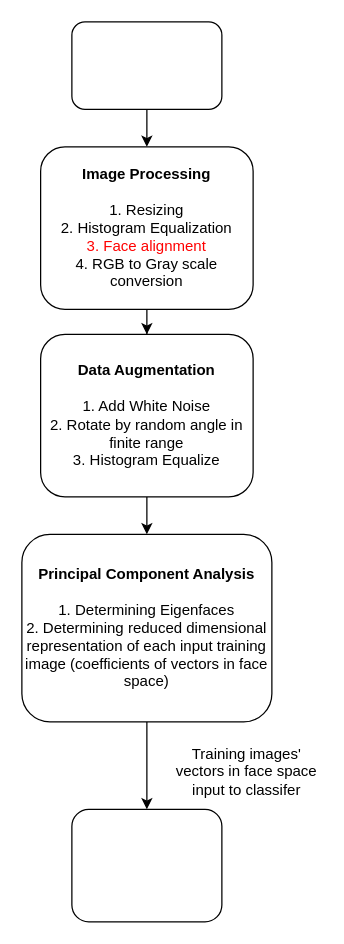
Some shapes in this 344 by 944 pixel diagram are drawn without their labels. Each missing label, with the centre of its shape:
Classifier Training classifier for face recognition: (146,865)
Training Samples Input (Cropped Frontal Face Images): (146,65)
